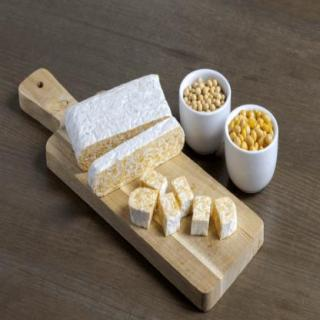Tempe: (62, 72, 186, 199)
